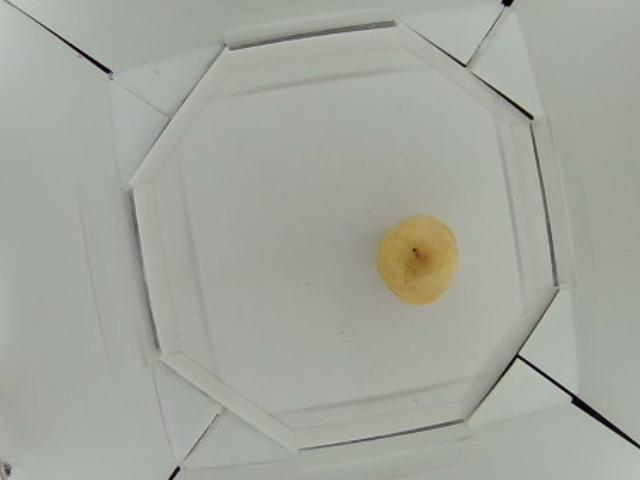Potato: (381, 217, 464, 305)
